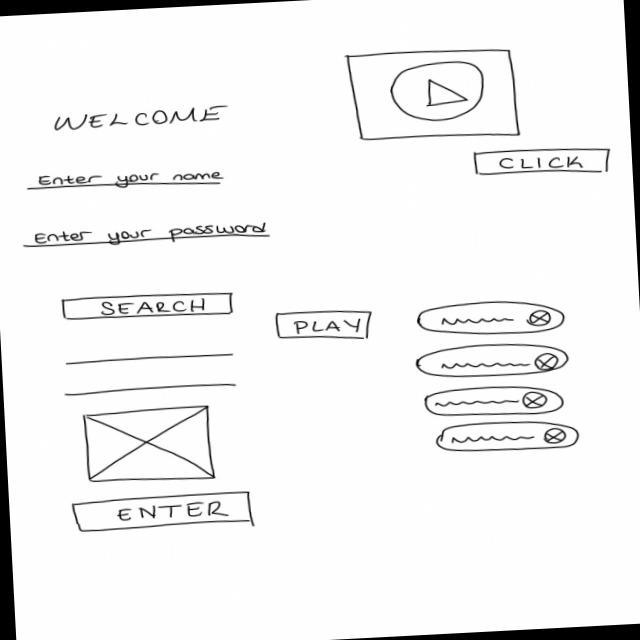button: (72, 490, 256, 536), (61, 289, 238, 326), (473, 144, 614, 182), (275, 308, 375, 346)
image: (82, 403, 219, 487)
input: (22, 219, 275, 254), (26, 166, 227, 197)
label: (53, 104, 234, 136)
